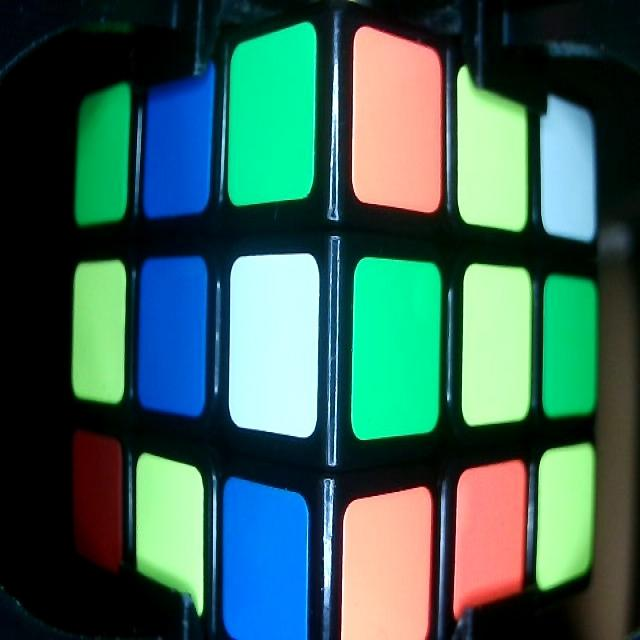b: (225, 497, 306, 632), (142, 266, 197, 394), (152, 92, 204, 202)
g: (358, 282, 440, 414), (234, 55, 308, 187), (545, 290, 599, 406), (80, 103, 124, 206)
o: (355, 42, 441, 188), (347, 513, 430, 635), (460, 484, 522, 580)
r: (74, 457, 123, 557)
w: (232, 278, 317, 411), (545, 109, 596, 235)
y: (461, 74, 525, 215), (138, 472, 204, 606), (468, 277, 528, 405), (76, 273, 121, 397), (542, 460, 593, 566)
